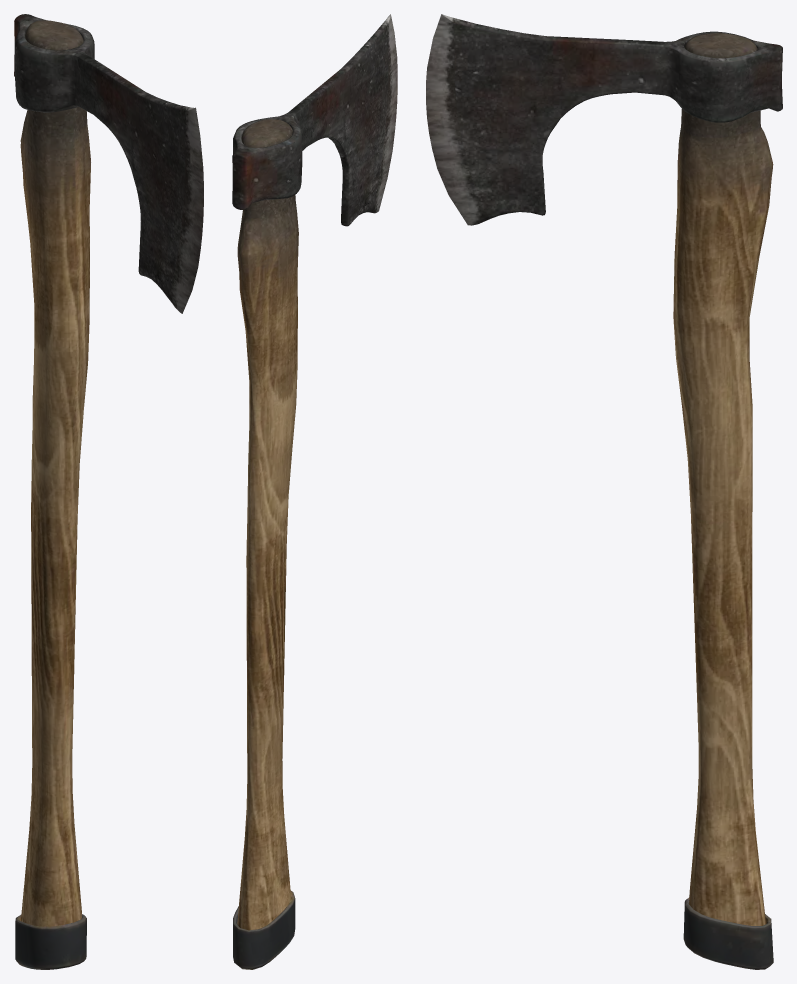
File: wooden_axe.glb
3 views of the same model, side by side, from view 1: azimuth 30°, elevation 25°; view 2: azimuth 150°, elevation 25°; view 3: azimuth 270°, elevation 25° (orthographic). The views are drawn at different scales.
Parts seen in each view (by area): view 1: wooden_axe; view 2: wooden_axe; view 3: wooden_axe.
Part boxes in pixels (box(x1,y1,x2,y2)): wooden_axe: box(14, 14, 203, 969); wooden_axe: box(232, 14, 397, 969); wooden_axe: box(426, 14, 782, 969).
Bounding box in the file's own units: 0.0472 × 0.6303 × 0.2143.
1 material, 1 textured.
